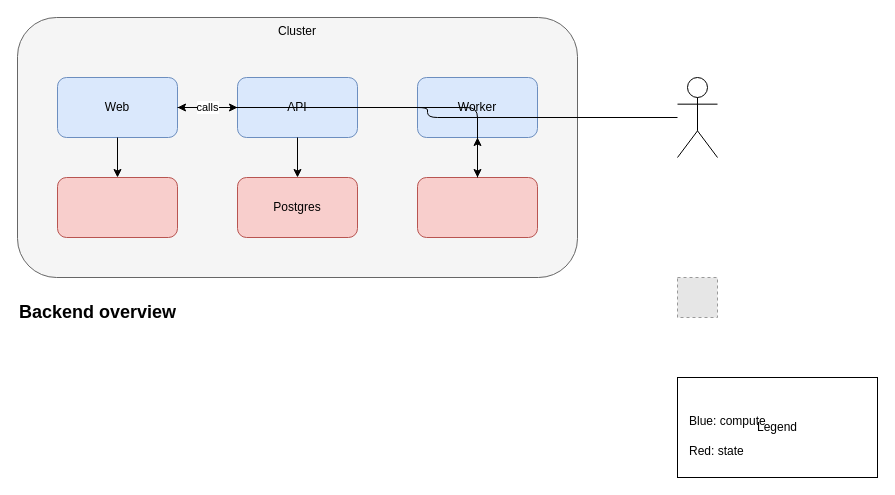
Image size: 895x495. Some labels were removed from this diagram. Grey dashed boxes stand in for pictures. The centre of each missing label's shape, as x and y in pixels:
Bus: point (477, 207)
Redis: point (117, 207)
Users: point (697, 117)
